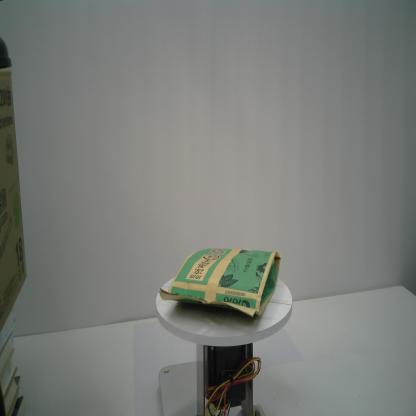Dried Food: (158, 247, 283, 319)
